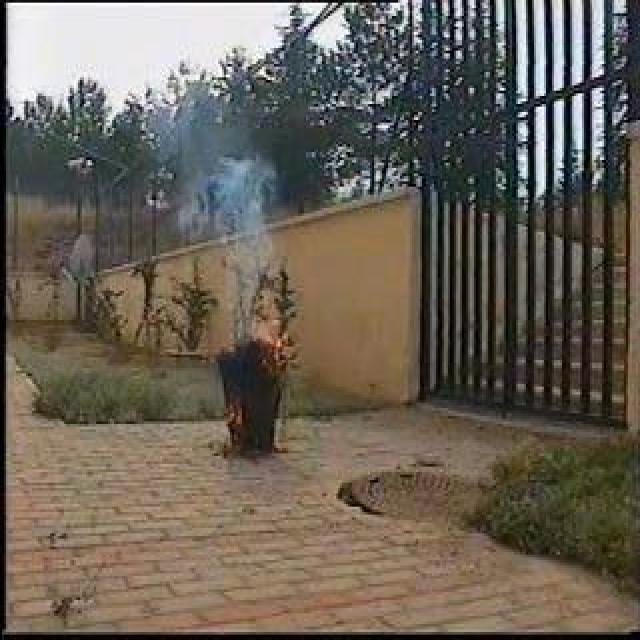Smoke: (192, 142, 278, 270)
